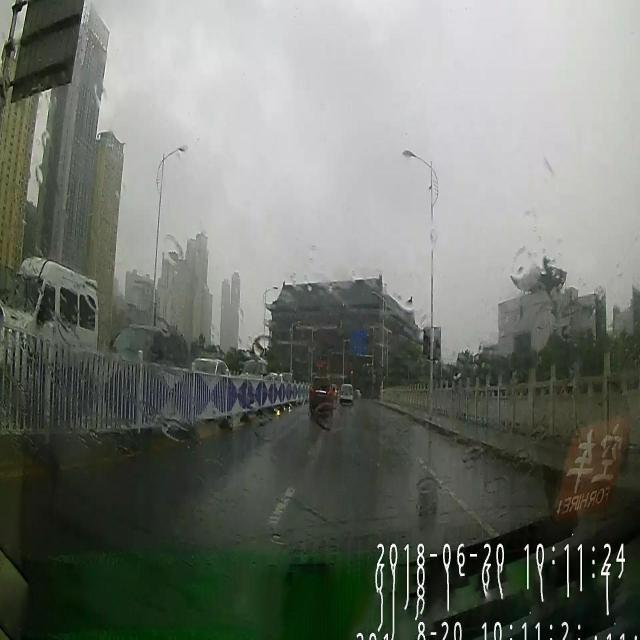car: (5, 238, 100, 384), (106, 307, 190, 402), (189, 346, 236, 419), (238, 340, 270, 388), (308, 369, 334, 420), (338, 378, 356, 407)
